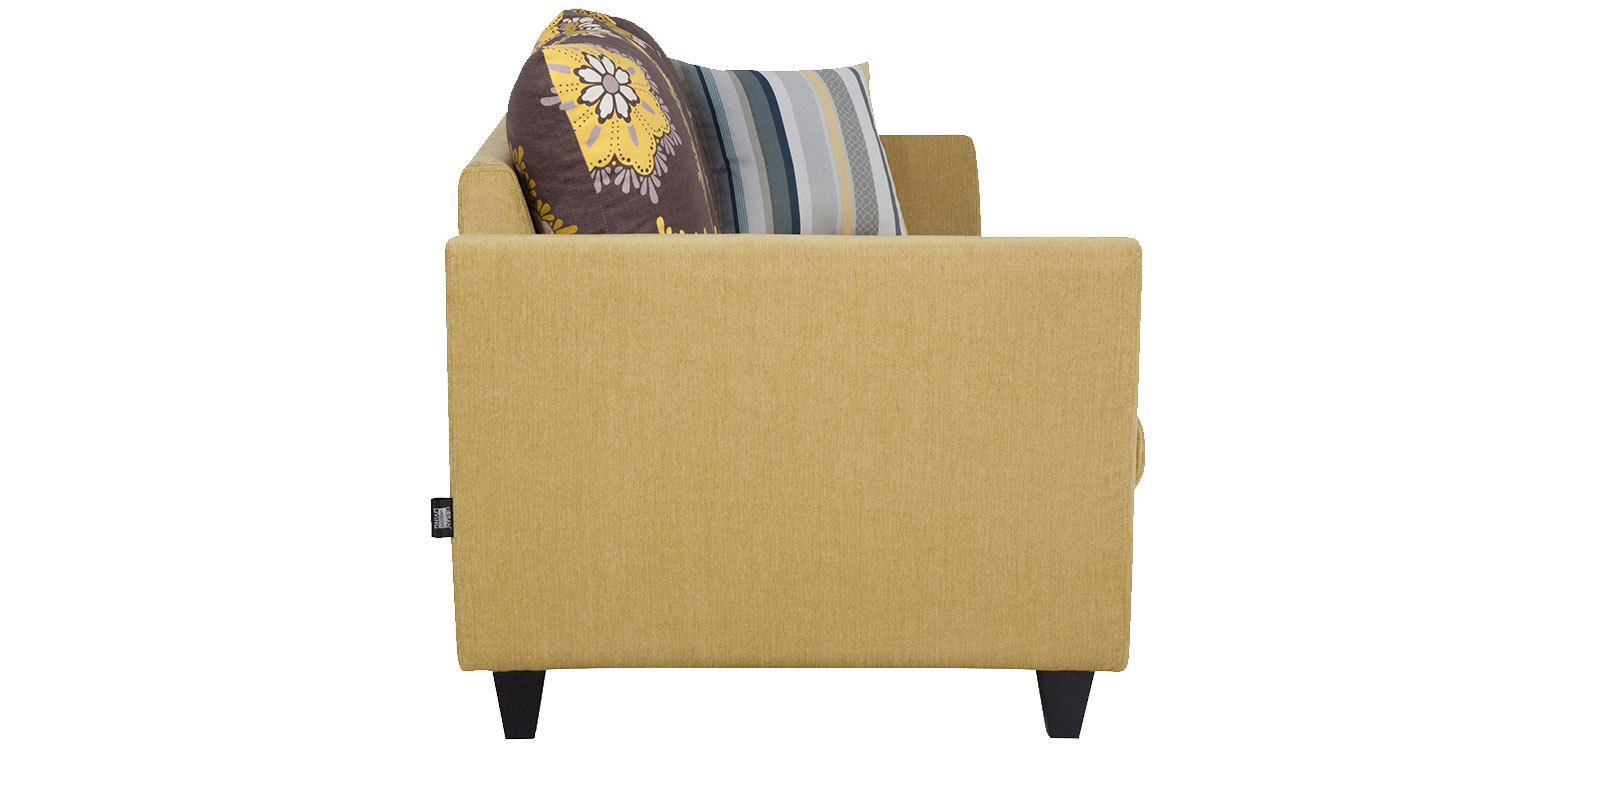Rio Brilliance Three Seater Sofa in Yellow Colour by Urban Living: (443, 5, 1143, 739)
